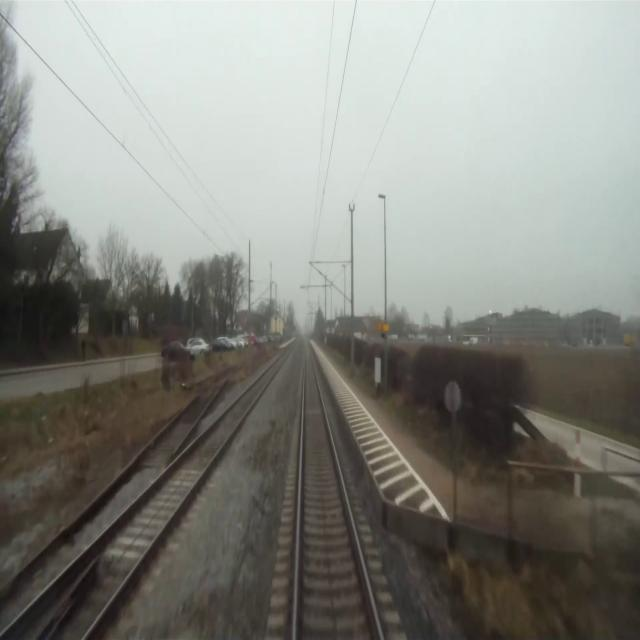rail-track: (0, 342, 294, 639), (0, 383, 221, 608), (297, 343, 380, 639)
